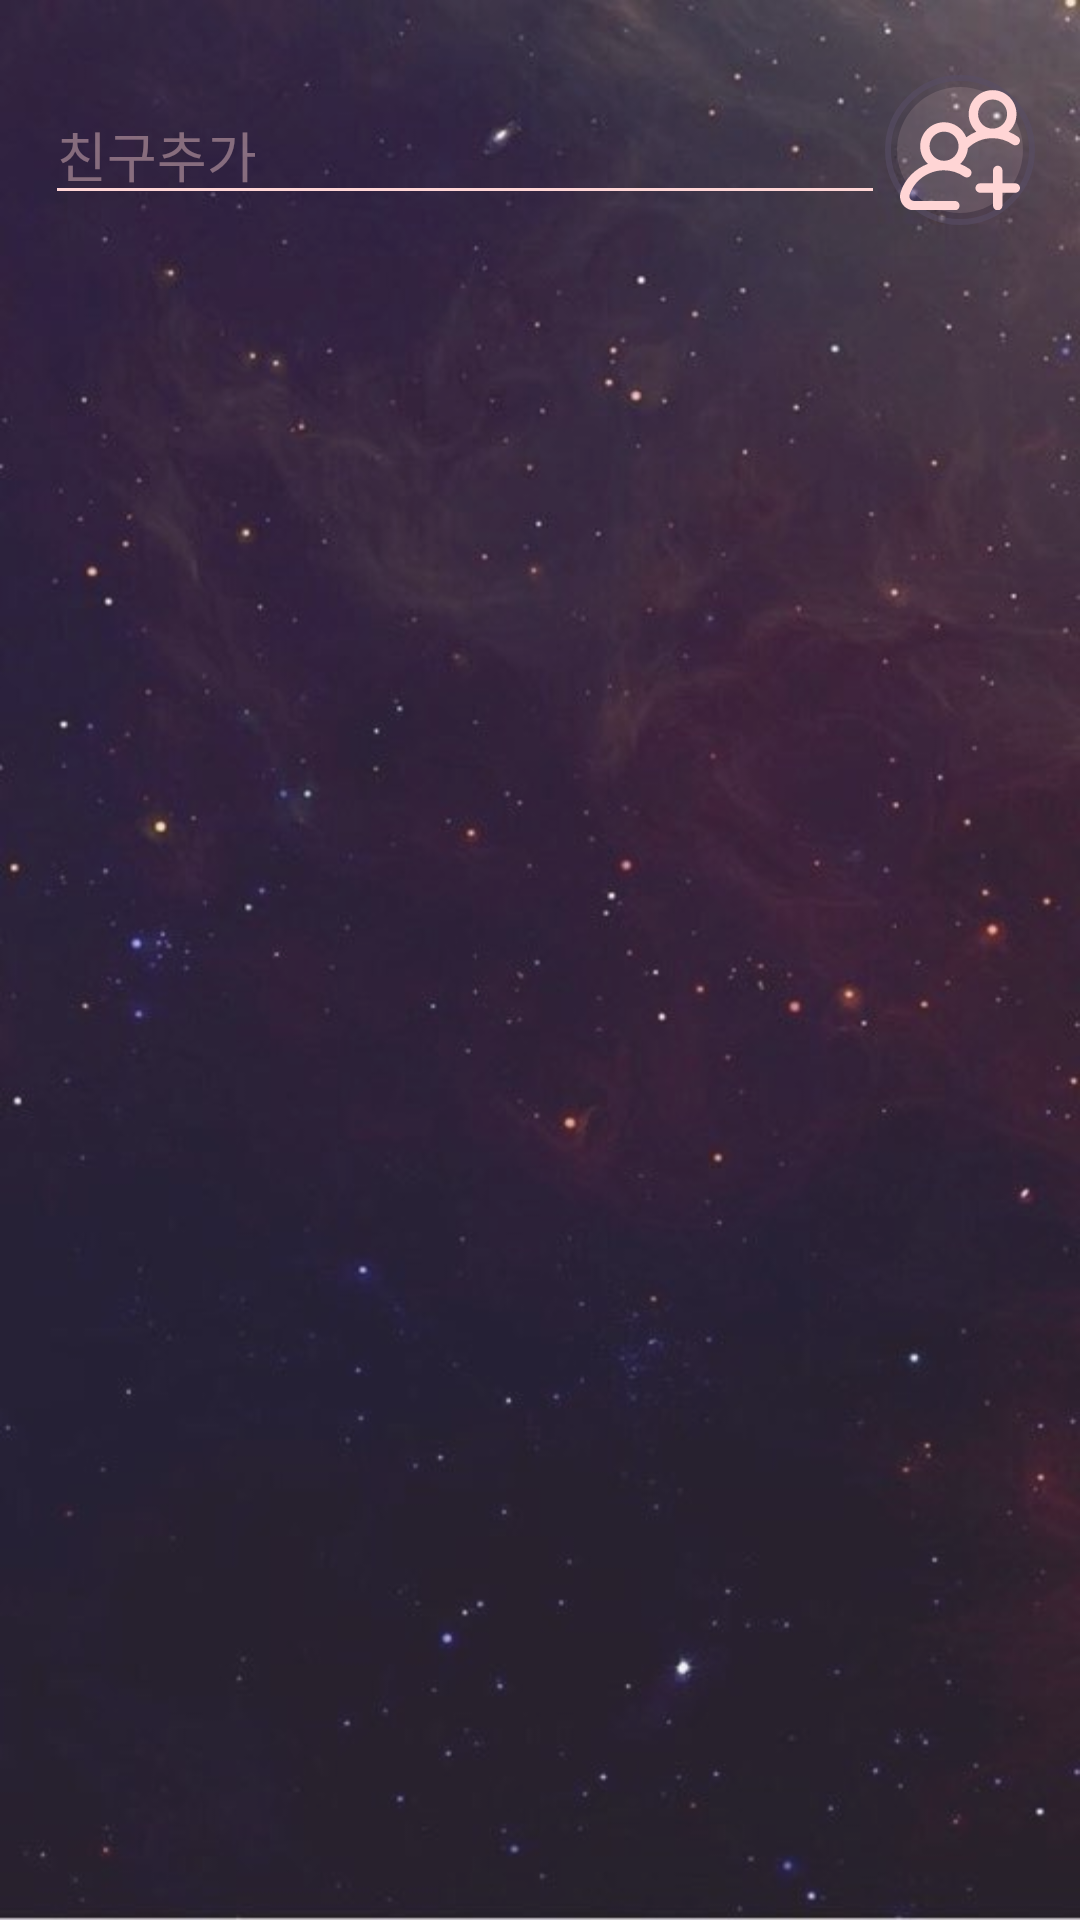

Icons on this 1080 x 1920 Android screen, each with the point to tap as [x,y]:
add group: [966,149]
